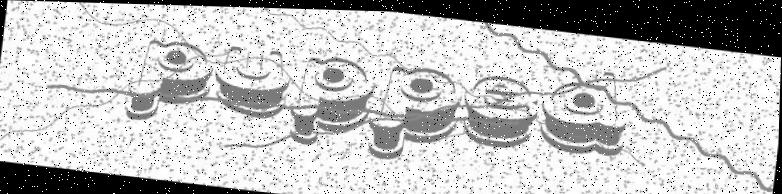d: (535, 56, 638, 169)
e: (460, 68, 546, 156)
p: (279, 45, 382, 152), (366, 61, 466, 168), (125, 27, 219, 132)
u: (208, 35, 299, 121)
